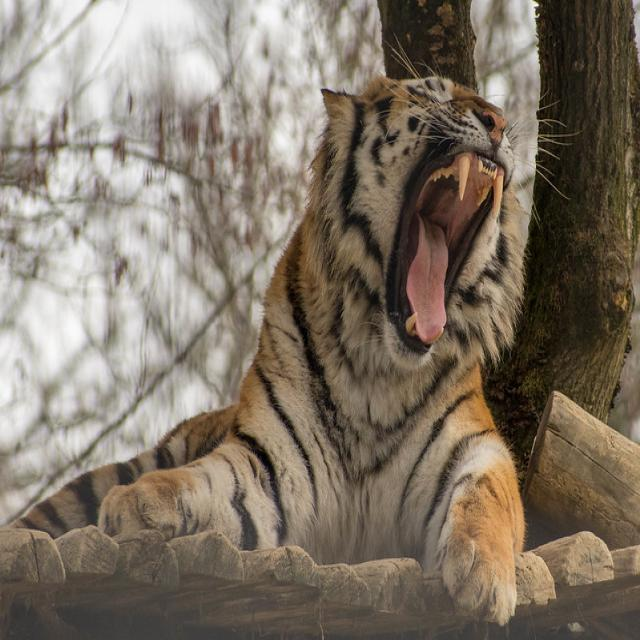Tiger: (0, 52, 562, 624)
